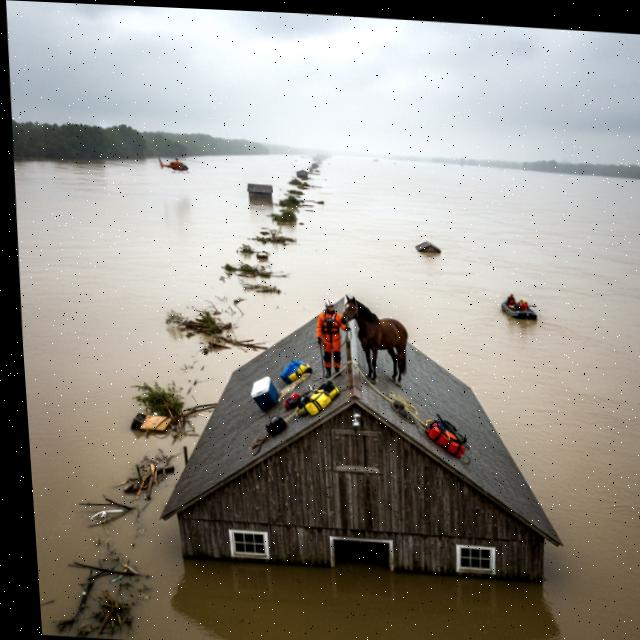horse: (336, 291, 417, 390)
rescuer: (311, 293, 355, 385), (517, 297, 531, 312), (505, 291, 516, 307)
